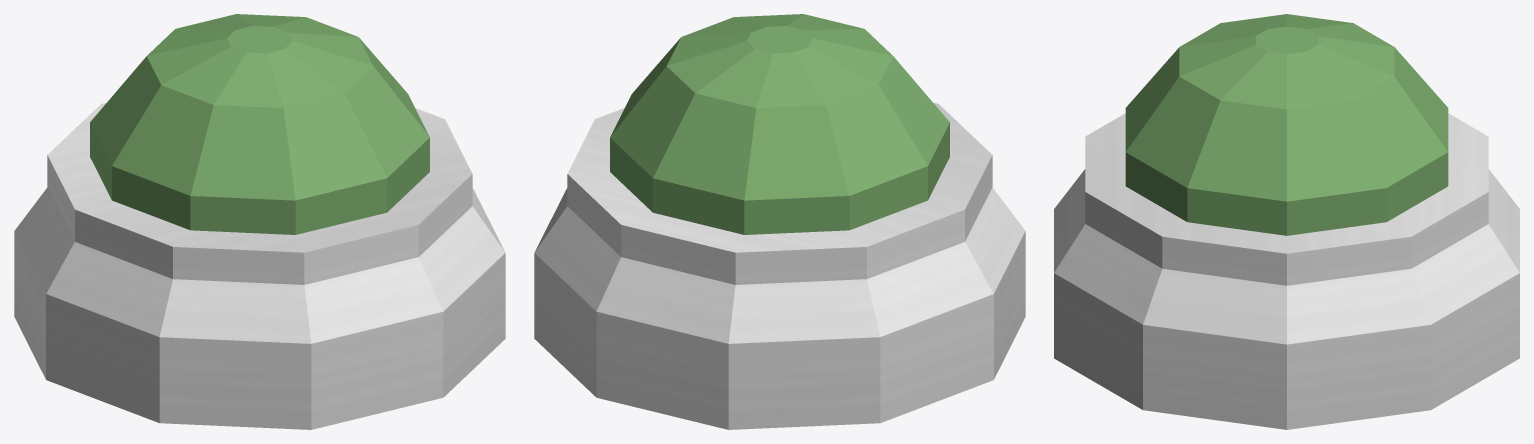
File: landing_beacon.obj
3 views of the same model, side by side, from view 1: azimuth 30°, elevation 25°; view 2: azimuth 150°, elevation 25°; view 3: azimuth 270°, elevation 25° (orthographic).
Visible parts, largest first — view 1: landing_beacon; view 2: landing_beacon; view 3: landing_beacon.
Part boxes in pixels (x1,y1,x2,y2): landing_beacon: (14, 14, 505, 429); landing_beacon: (534, 14, 1025, 429); landing_beacon: (1054, 14, 1519, 429).
Size of the model in its own units: 0.52 by 0.335 by 0.4945.
